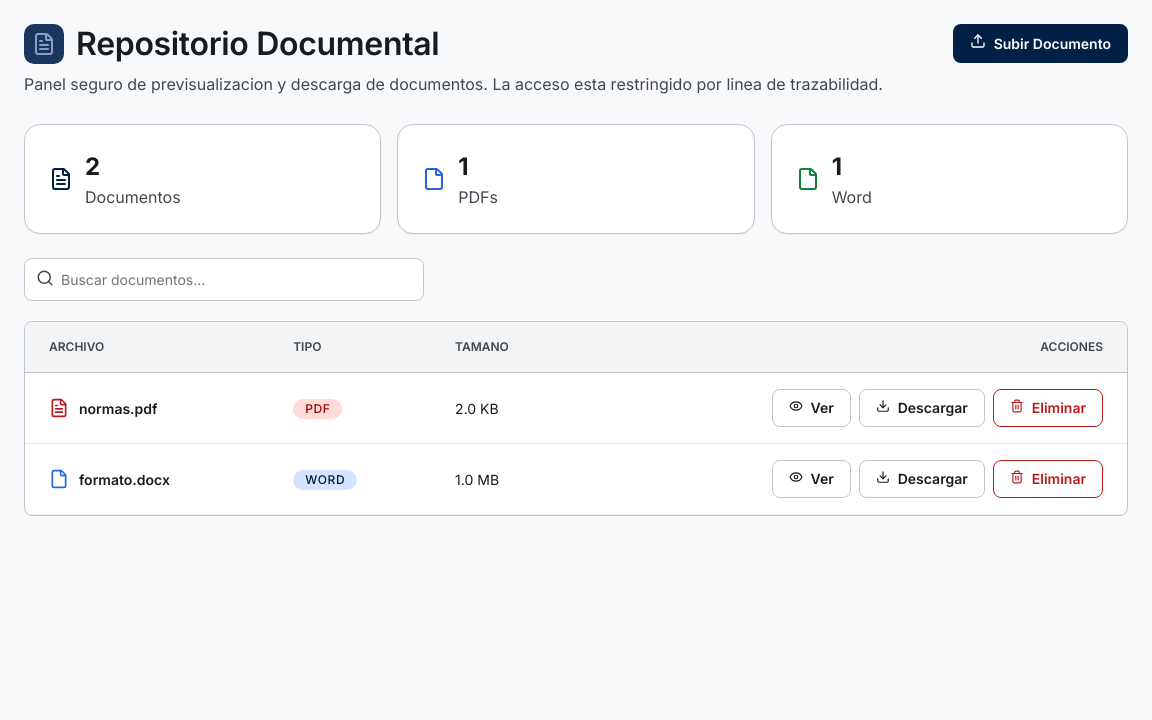
Test: DocumentRepository page › filters documents by search term
Expected: the text "normas.pdf" is shown, [79,398,158,418]
Type "docx" into the field with placeholder "Buscar documentos..." at (224, 280), box [24,258,424,301]
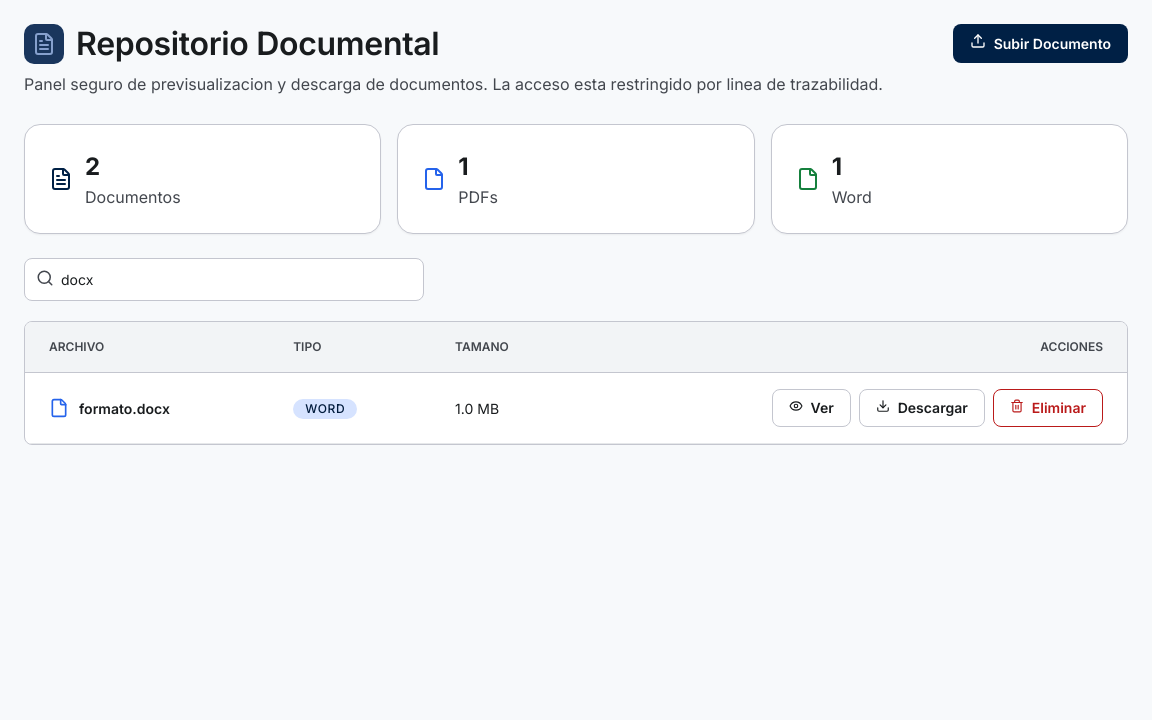
Expected: the text "formato.docx" is shown, [79,398,170,418]
Expected: the text "normas.pdf" is gone
